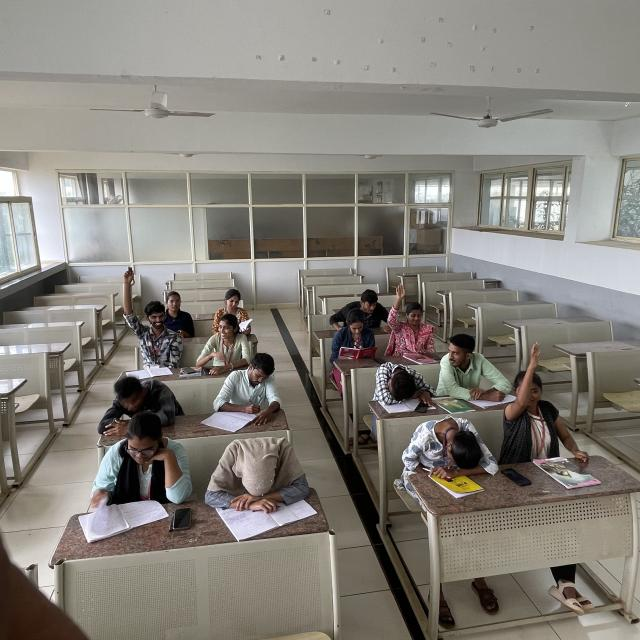Hand Rising: (504, 341, 581, 470), (117, 264, 182, 367), (388, 282, 436, 356)
Reading: (84, 412, 194, 521), (328, 308, 382, 362), (214, 288, 252, 334)
Sleeping: (202, 430, 318, 526), (402, 412, 501, 482), (92, 373, 186, 432), (373, 358, 438, 415)
Writing: (209, 347, 286, 432)
